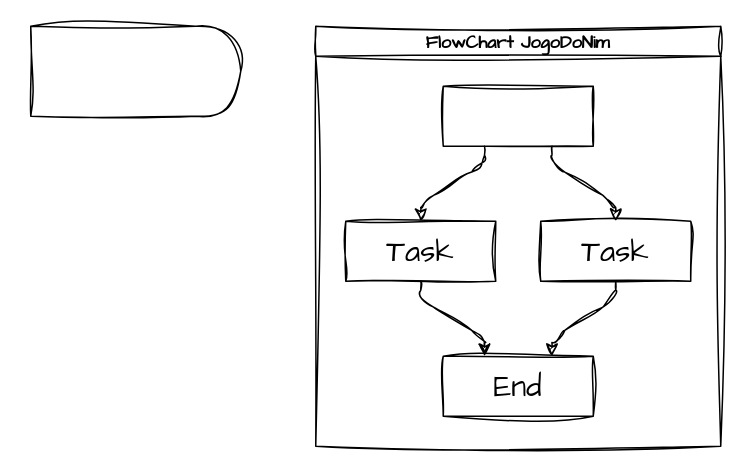
Image size: 747x473. Some labels were removed from this diagram. Here are the shapes that lost their labels. From the top down, the centre of each, then its label:
At [135,70]: "em desenvolvimento".
At [517,115]: "Start".
